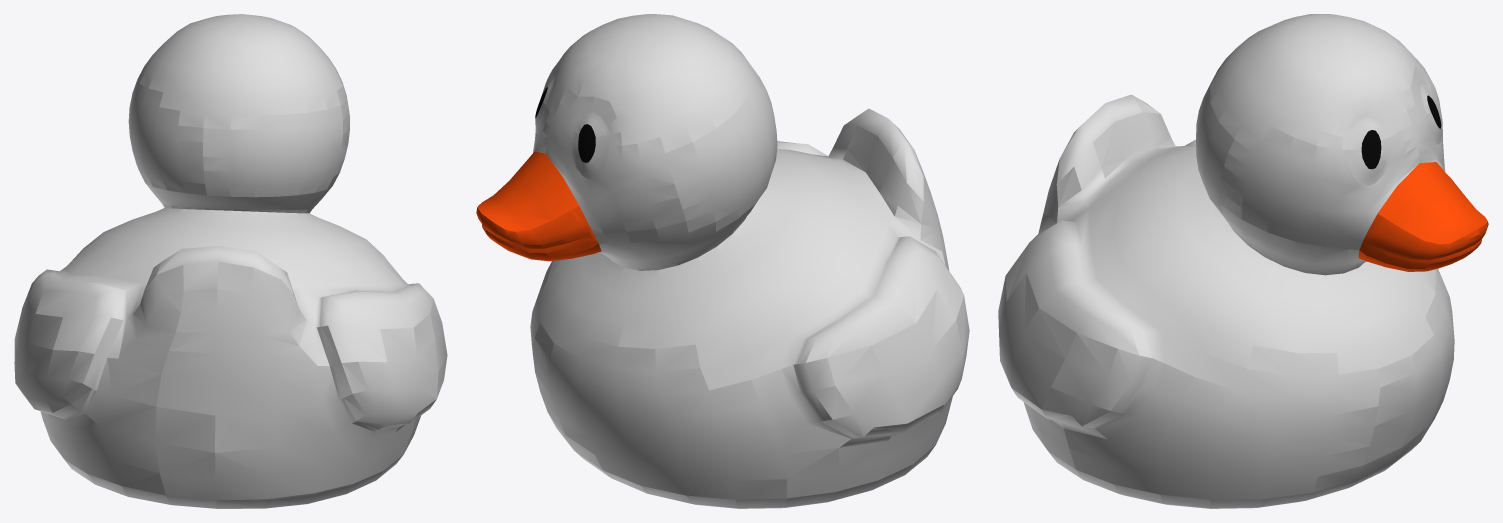
The model's file is duck.FBX.
The picture shows the model from 3 angles, left to right: view 1: azimuth 30°, elevation 25°; view 2: azimuth 150°, elevation 25°; view 3: azimuth 270°, elevation 25°; orthographic projection. The views are drawn at different scales.
Parts seen in each view (by area): view 1: Arch_056_0; view 2: Arch_056_0, Arch_056_1, Arch_056_3, Arch_056_2; view 3: Arch_056_0, Arch_056_1, Arch_056_3, Arch_056_2.
Boxes of the visible parts, <box> form: Arch_056_0: <box>14,14,447,508</box>; Arch_056_0: <box>530,14,969,508</box>; Arch_056_1: <box>476,151,601,261</box>; Arch_056_3: <box>535,75,609,179</box>; Arch_056_2: <box>535,87,595,162</box>; Arch_056_0: <box>998,14,1454,508</box>; Arch_056_1: <box>1358,162,1488,271</box>; Arch_056_3: <box>1346,83,1442,185</box>; Arch_056_2: <box>1361,95,1441,169</box>.
Size of the model in its own units: 0.4313 by 0.4368 by 0.4492.
